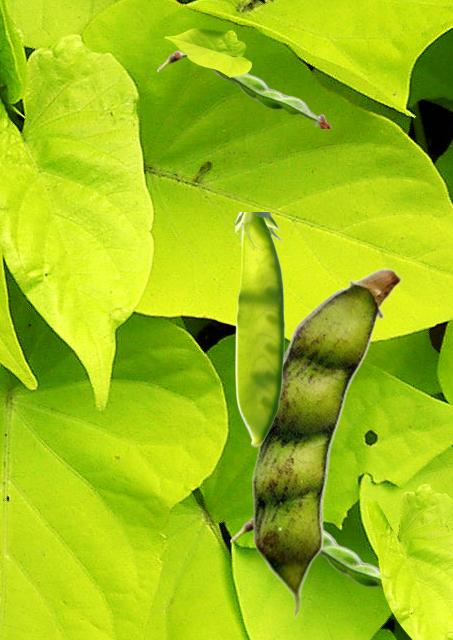pea: (252, 267, 401, 617), (157, 48, 331, 127), (235, 212, 284, 446), (230, 517, 382, 590)
